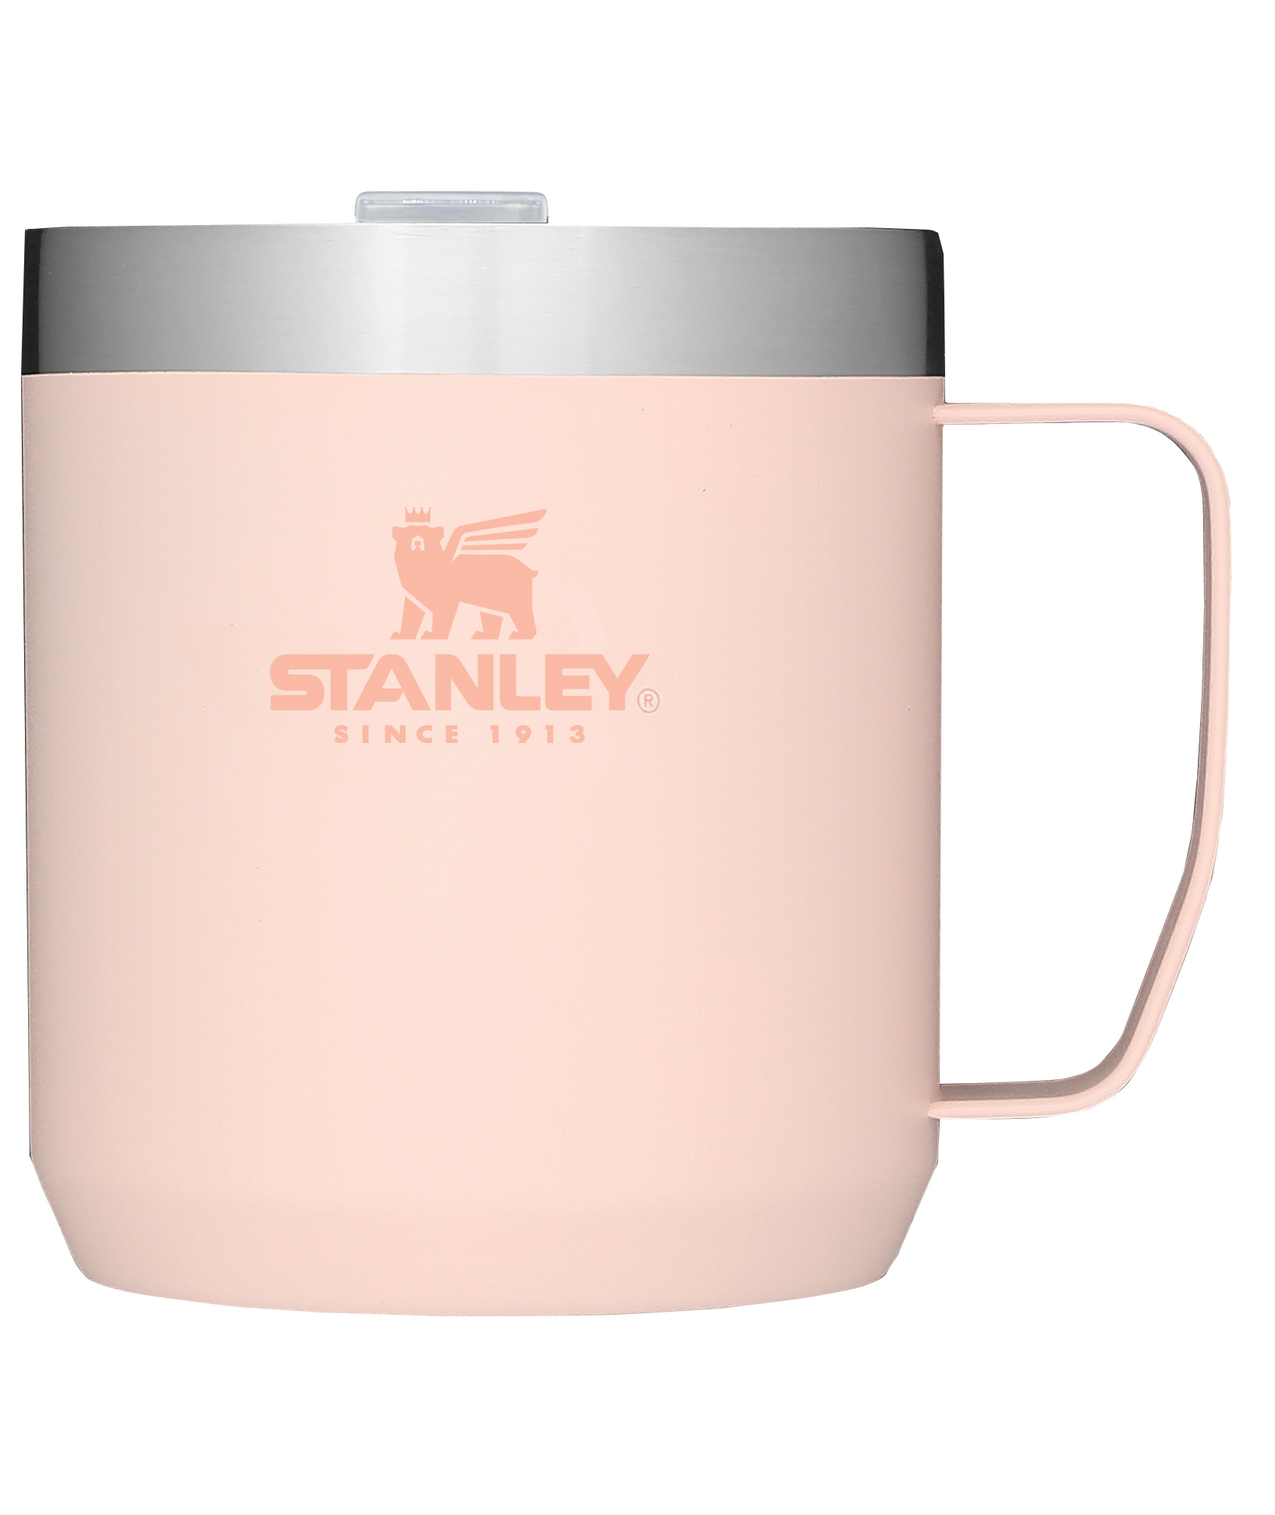cup: (8, 187, 1236, 1320)
